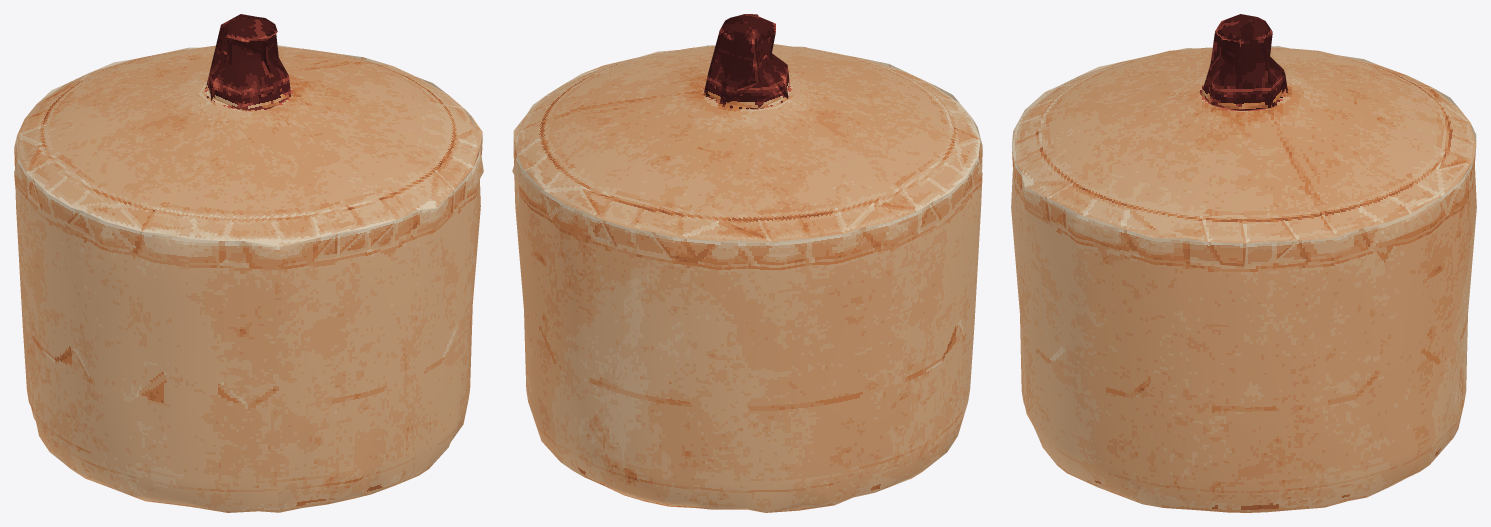
The model's file is brass_pot_01.glb.
3 views of the same model, side by side, from view 1: azimuth 30°, elevation 25°; view 2: azimuth 150°, elevation 25°; view 3: azimuth 270°, elevation 25° (orthographic).
Visible parts, largest first — view 1: mesh; view 2: mesh; view 3: mesh.
Part boxes in pixels (x1=…): mesh: x1=14, y1=14, x2=483, y2=512; mesh: x1=512, y1=14, x2=982, y2=512; mesh: x1=1011, y1=14, x2=1476, y2=512.
Bounding box in the file's own units: 26.65 × 26.19 × 26.65.
Materials: 1 (1 with a texture image).
